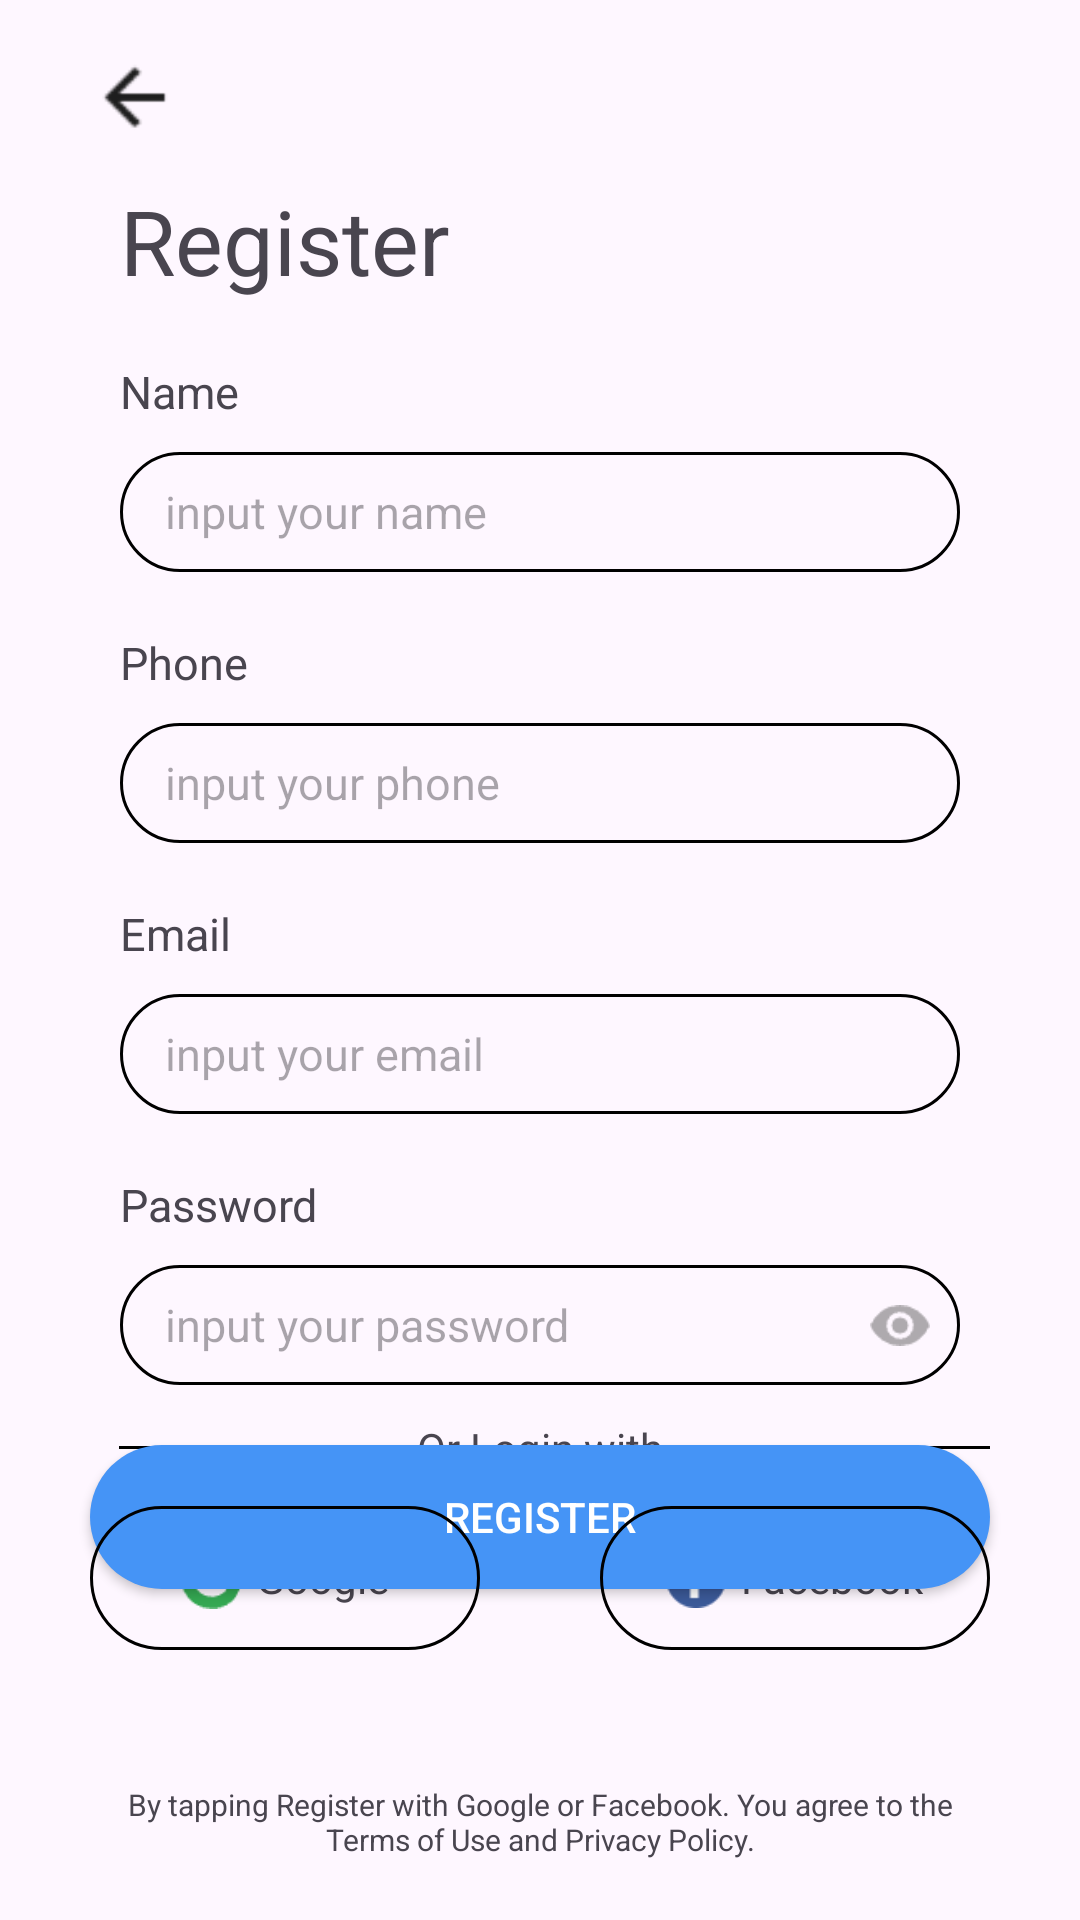

Icons on this 1080px x 1920px Android screen, each with its box as (x1, y1, x2, y2):
back: (104, 67, 166, 128)
eye: (870, 1305, 930, 1346)
